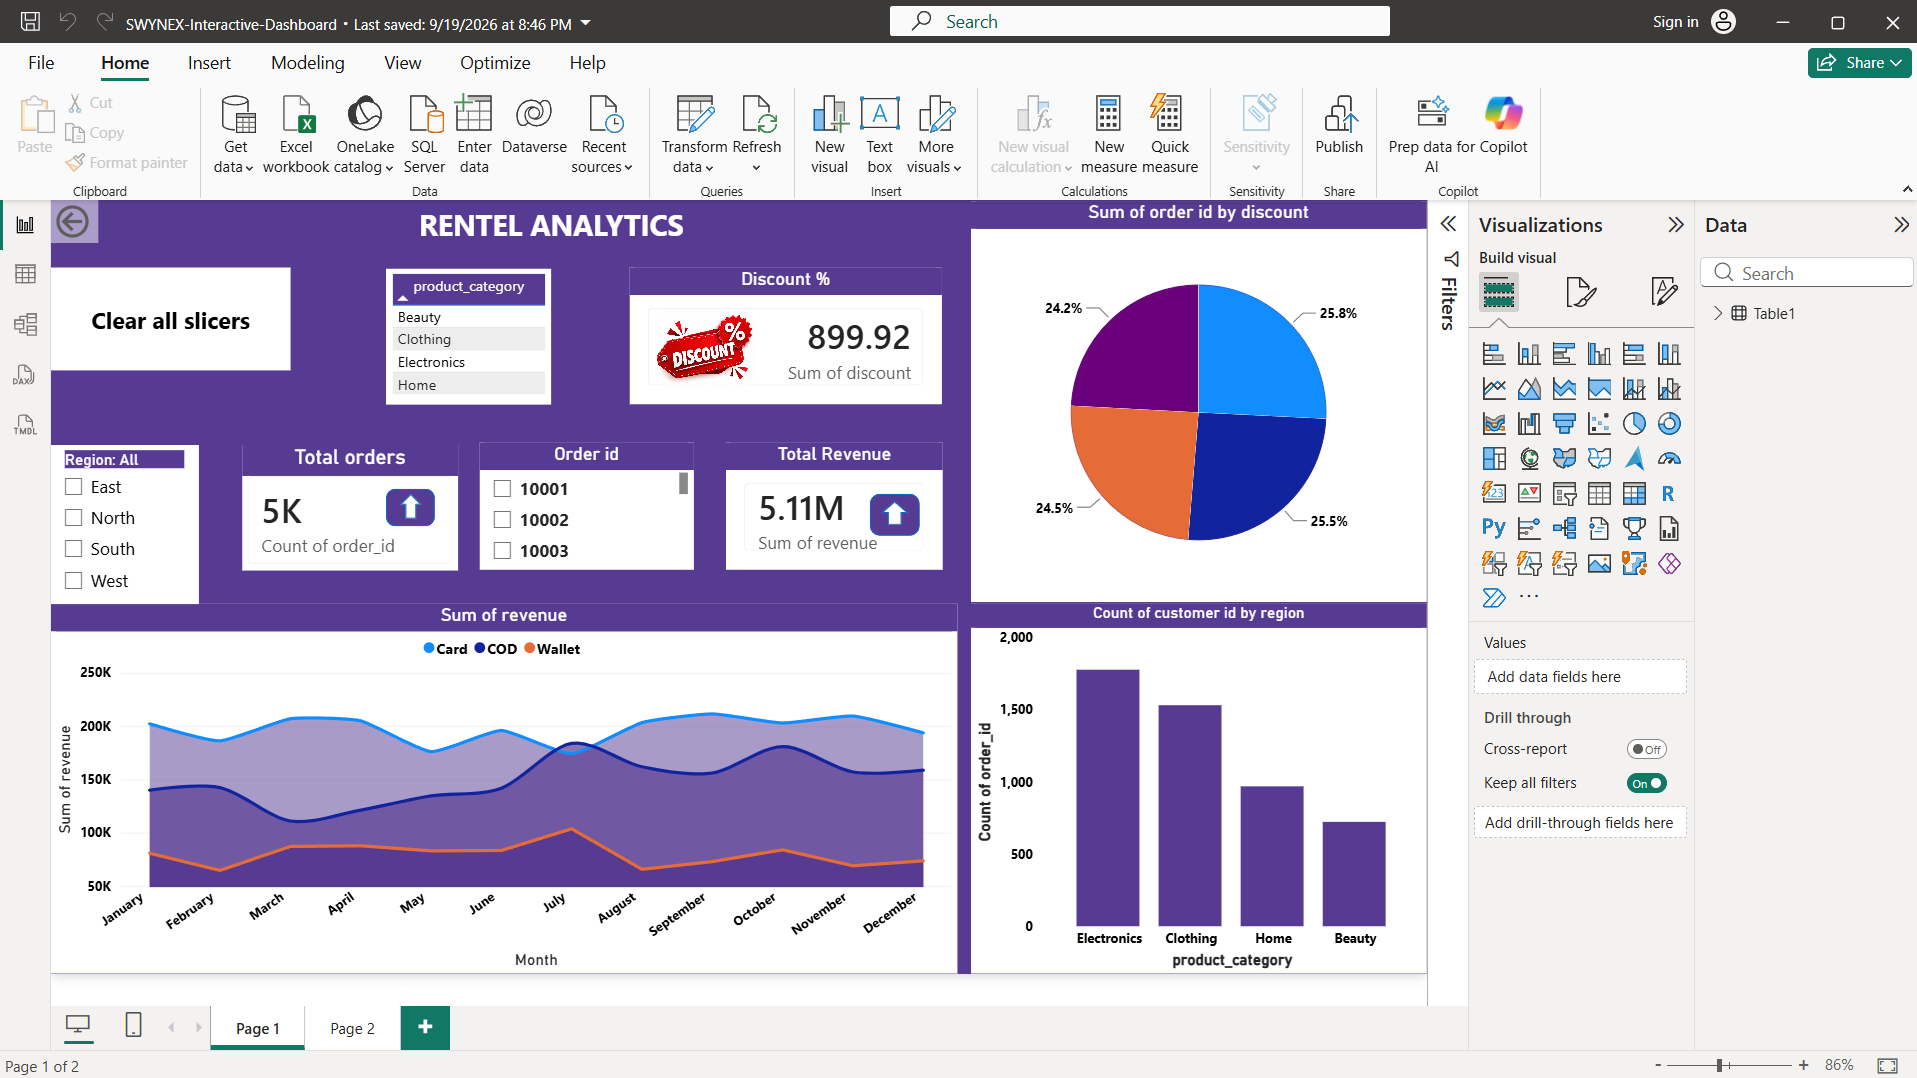

The page's visual inventory and layout, read from the dashboard file:
{"tool":"powerbi","page":{"name":"Page 1","canvas":[1280,720],"ordinal":0},"visuals":[{"type":"textbox","box":[332.2,0,265.6,45.6],"z":0},{"type":"cardVisual","title":"Discount %","fields":{"Data":["Sum(Table1.discount)"]},"box":[538.6,62.9,290,127],"z":0,"group":"g5"},{"type":"cardVisual","title":"Total orders","fields":{"Data":["CountNonNull(Table1.order_id)1"]},"box":[178.4,227.8,200.7,116.8],"z":0,"group":"g4"},{"type":"image","box":[560.6,101.9,95,72],"z":1000,"group":"g5"},{"type":"slicer","title":"Order id","fields":{"Values":["Table1.order_id"]},"box":[399.3,225,199,118],"z":1000},{"type":"group","id":"g1","title":"Group 1","box":[311.7,268.8,45.4,34.9],"z":1000,"group":"g4"},{"type":"group","id":"g2","title":"Group 4","box":[628.5,225,203.1,118],"z":2000},{"type":"shape","box":[311.7,268.8,45.4,34.9],"z":2000,"group":"g7"},{"type":"cardVisual","title":"Total Revenue","fields":{"Data":["Sum(Table1.revenue)"]},"box":[628.5,225,201.8,118.5],"z":3000,"group":"g2"},{"type":"shape","box":[324.5,273.6,20.5,23.2],"z":3000,"group":"g7"},{"type":"columnChart","title":"Count of customer id by region","fields":{"Category":["Table1.product_category"],"Y":["CountNonNull(Table1.order_id)"]},"box":[856,376,424,344],"z":3000},{"type":"shape","box":[762.1,272.2,46.6,39.1],"z":4000,"group":"g3"},{"type":"areaChart","title":"Sum of revenue","fields":{"Y":["Sum(Table1.revenue)"],"Series":["Table1.payment_method"],"Category":["Table1.order_date.Variation.Date Hierarchy.Month","Table1.order_date.Variation.Date Hierarchy.Year"]},"box":[0,375.7,842.9,344.3],"z":4000},{"type":"actionButton","box":[0,62.9,222.9,95.7],"z":5000},{"type":"shape","box":[772.1,279.5,25.5,22],"z":5000,"group":"g3"},{"type":"group","id":"g3","title":"Group 3","box":[762.1,272.2,46.6,39.1],"z":5001,"group":"g2"},{"type":"actionButton","box":[0,0,44.3,40],"z":6000},{"type":"group","id":"g4","title":"Group 6","box":[178.4,227.8,200.3,115.3],"z":7000},{"type":"pieChart","title":"Sum of order id by discount","fields":{"Category":["Table1.region"],"Y":["CountNonNull(Table1.order_date)"]},"box":[856.2,1.2,423.8,372.5],"z":8000},{"type":"group","id":"g5","title":"Group 7","box":[538.6,62.9,291.4,127.1],"z":9000},{"type":"group","id":"g6","title":"Group 2","box":[311.7,268.8,45.4,34.9],"z":9001,"group":"g1"},{"type":"group","id":"g7","title":"Group 5","box":[311.7,268.8,45.4,34.9],"z":9001,"group":"g6"},{"type":"slicer","fields":{"Values":["Table1.region"]},"box":[0,227.8,137.2,148.2],"z":10000},{"type":"tableEx","fields":{"Values":["Table1.product_category"]},"box":[311.5,64.5,153.7,126.2],"z":11000}]}

Visuals, with their boxes on the page's 1280x720 design canvas (x1, y1, x2, y2). These are canvas units, not pixel positions in the 1917x1078 screenshot, which may show the page scaled, cropped or inside an application window:
textbox: 332 0 598 46
"Discount %" cardVisual: 539 63 829 190
"Total orders" cardVisual: 178 228 379 345
image: 561 102 656 174
"Order id" slicer: 399 225 598 343
"Group 1" group: 312 269 357 304
"Group 4" group: 628 225 832 343
shape: 312 269 357 304
"Total Revenue" cardVisual: 628 225 830 344
shape: 324 274 345 297
"Count of customer id by region" columnChart: 856 376 1280 720
shape: 762 272 809 311
"Sum of revenue" areaChart: 0 376 843 720
actionButton: 0 63 223 159
shape: 772 280 798 302
"Group 3" group: 762 272 809 311
actionButton: 0 0 44 40
"Group 6" group: 178 228 379 343
"Sum of order id by discount" pieChart: 856 1 1280 374
"Group 7" group: 539 63 830 190
"Group 2" group: 312 269 357 304
"Group 5" group: 312 269 357 304
slicer - Table1.region: 0 228 137 376
tableEx - Table1.product_category: 312 64 465 191
